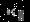person: (8, 6, 15, 20), (19, 7, 25, 21)
